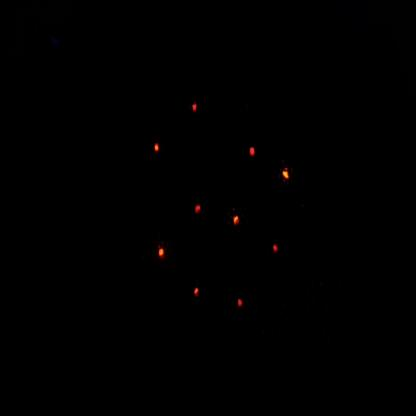PET: (184, 188, 217, 236), (262, 231, 296, 273), (227, 281, 256, 328), (237, 137, 267, 178), (182, 88, 210, 131)
PVC: (137, 125, 169, 169), (187, 269, 214, 320), (150, 230, 175, 278), (225, 194, 250, 241), (276, 152, 300, 200)
